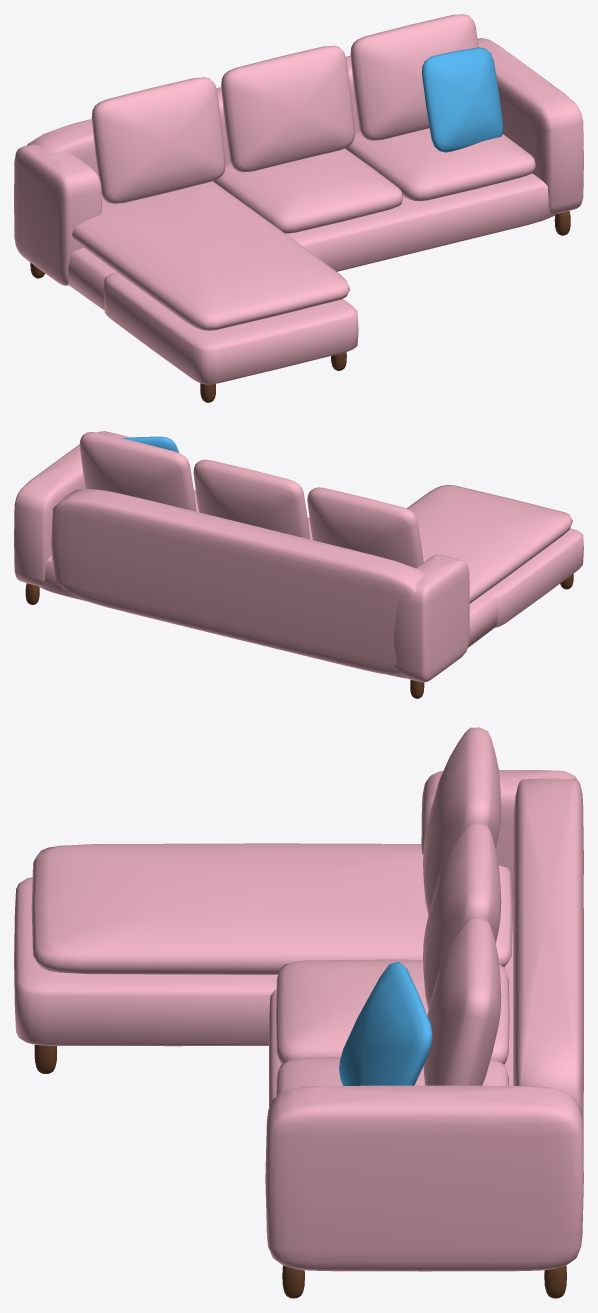
File: sofa_chaise_rosa_bebe.glb
3 renders of one model, top to bottom at view 1: azimuth 30°, elevation 25°; view 2: azimuth 150°, elevation 25°; view 3: azimuth 270°, elevation 25°, orthographic. The views are drawn at different scales.
Parts seen in each view (by area): view 1: sofa_chaise_rosa_bebe; view 2: sofa_chaise_rosa_bebe; view 3: sofa_chaise_rosa_bebe.
Part boxes in pixels (<box>): sofa_chaise_rosa_bebe: <box>14,14,583,402</box>; sofa_chaise_rosa_bebe: <box>14,431,583,698</box>; sofa_chaise_rosa_bebe: <box>14,727,583,1298</box>.
Bounding box in the file's own units: 2.31 × 0.8707 × 1.61.
Materials: 1 (1 with a texture image).
